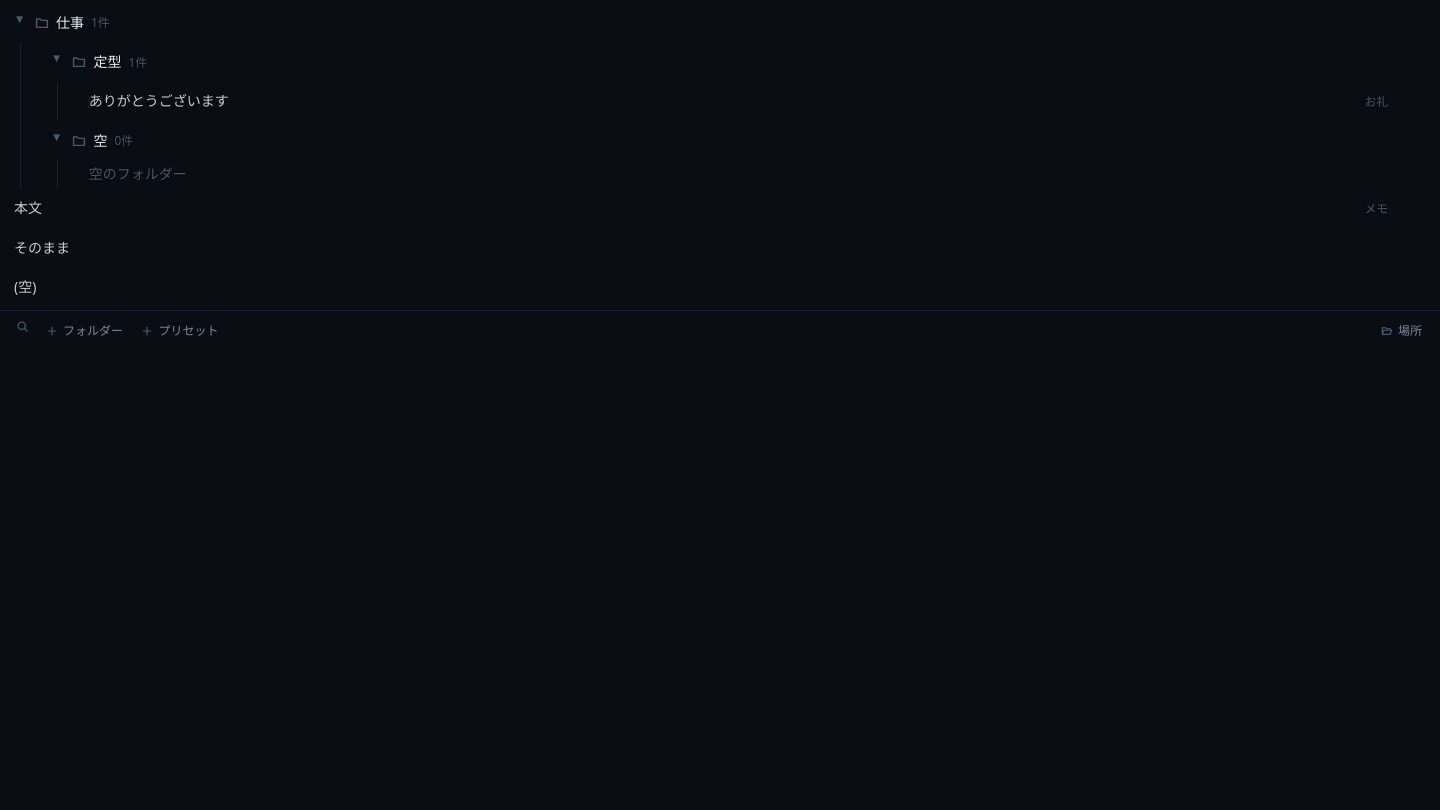
PresetPopover: 一覧 › 検索を閉じると、検索語を消す
What coordinates should you click on to do the following:
click the button named "検索"
I would click on:
 (23, 329)
Its box is [12,318,34,340].
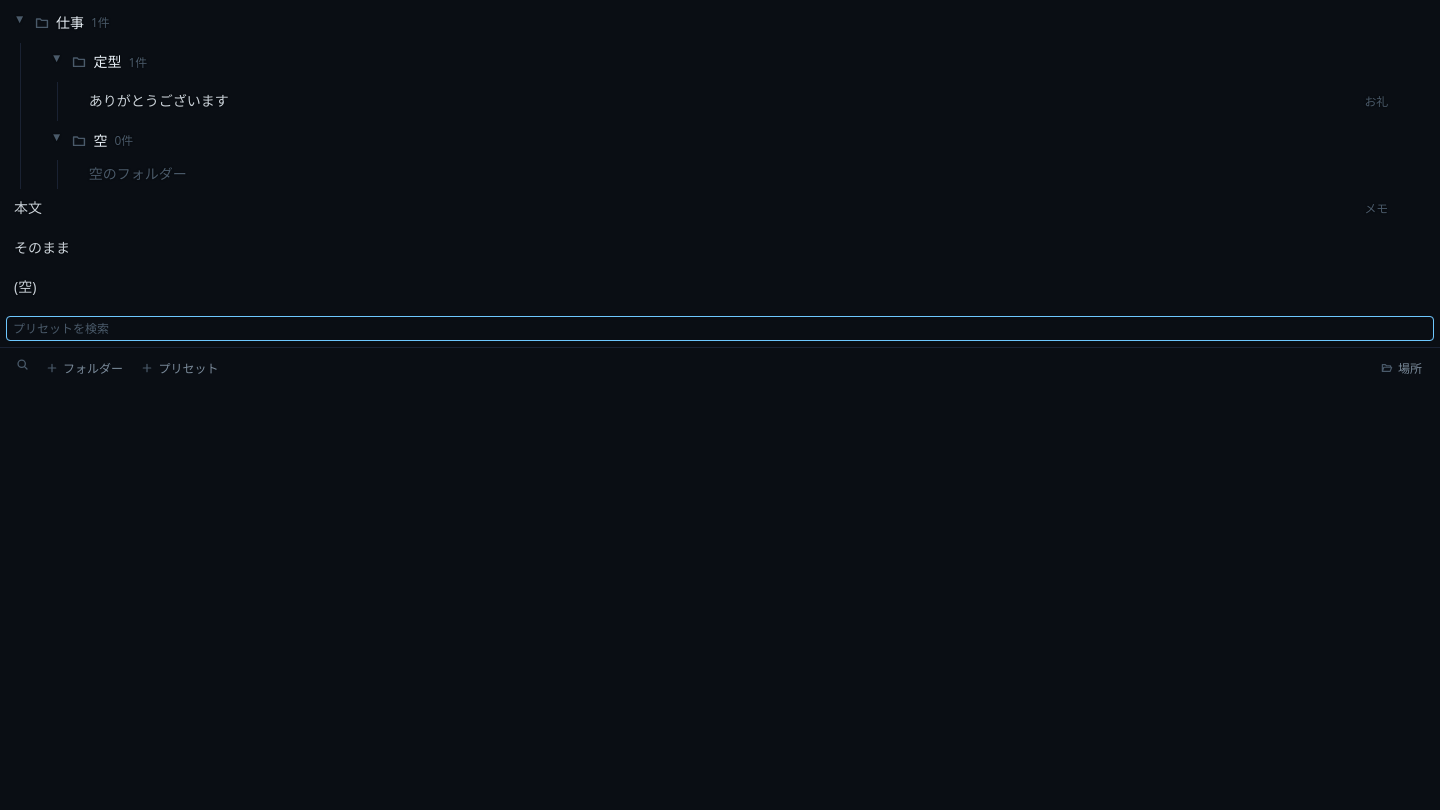
What coordinates should you click on to do the following:
click the button named "検索"
I would click on:
 (23, 366)
Its box is [12,356,34,377].
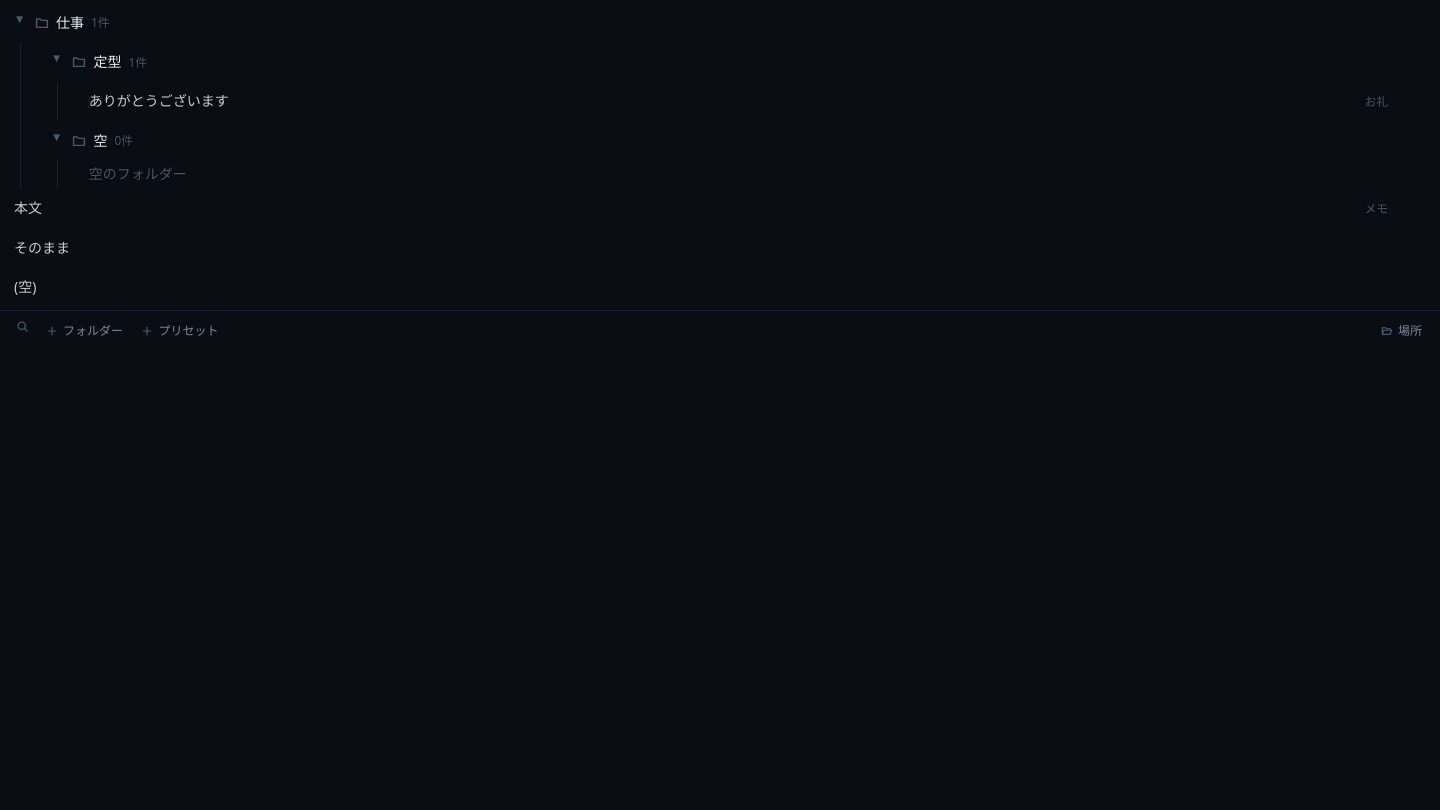
Expected: the search field named "プリセットを検索" is gone
